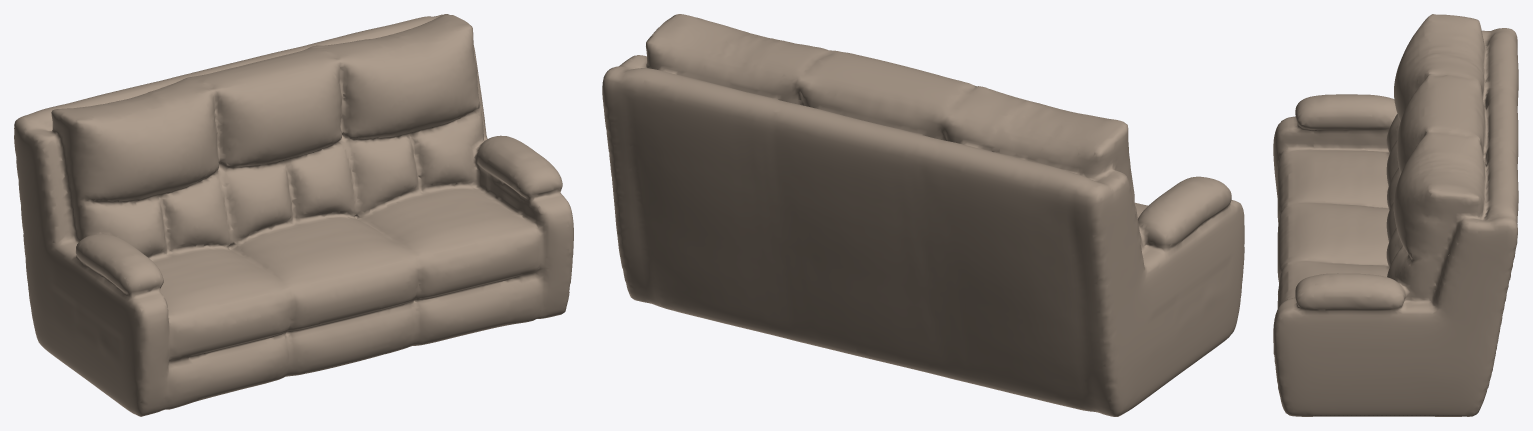
File: sofa-freya-v3.glb
The picture shows the model from 3 angles, left to right: view 1: azimuth 30°, elevation 25°; view 2: azimuth 150°, elevation 25°; view 3: azimuth 270°, elevation 25°; orthographic projection. The views are drawn at different scales.
Parts seen in each view (by area): view 1: Sofa Recliner 3S Freya; view 2: Sofa Recliner 3S Freya; view 3: Sofa Recliner 3S Freya.
Part boxes in pixels (<box>): Sofa Recliner 3S Freya: <box>14,14,573,416</box>; Sofa Recliner 3S Freya: <box>602,14,1244,416</box>; Sofa Recliner 3S Freya: <box>1273,14,1518,416</box>.
Size of the model in its own units: 1.9 by 1 by 0.99.
